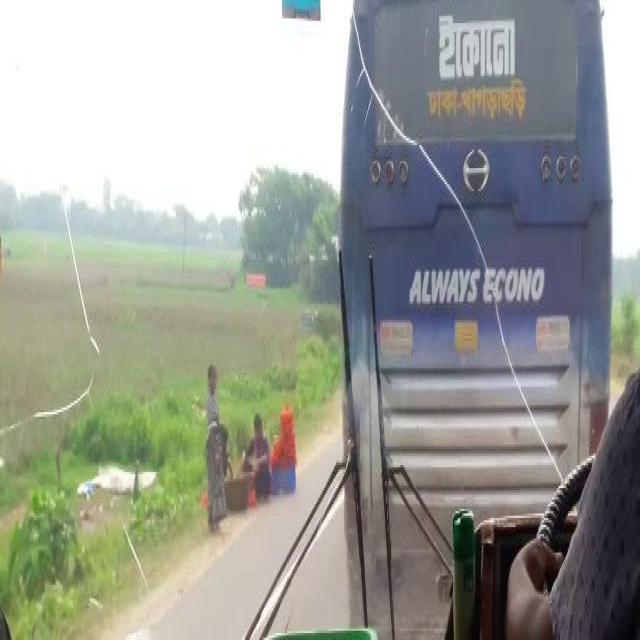bus: (339, 5, 613, 633)
